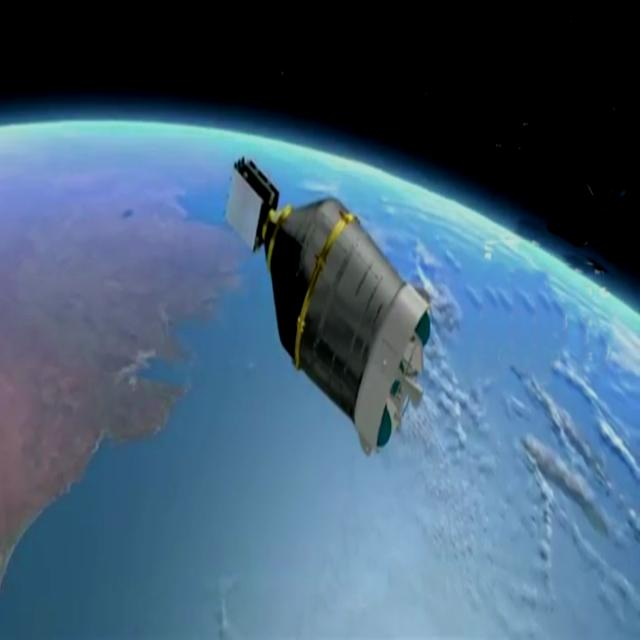medium_debris: (212, 103, 444, 489)
